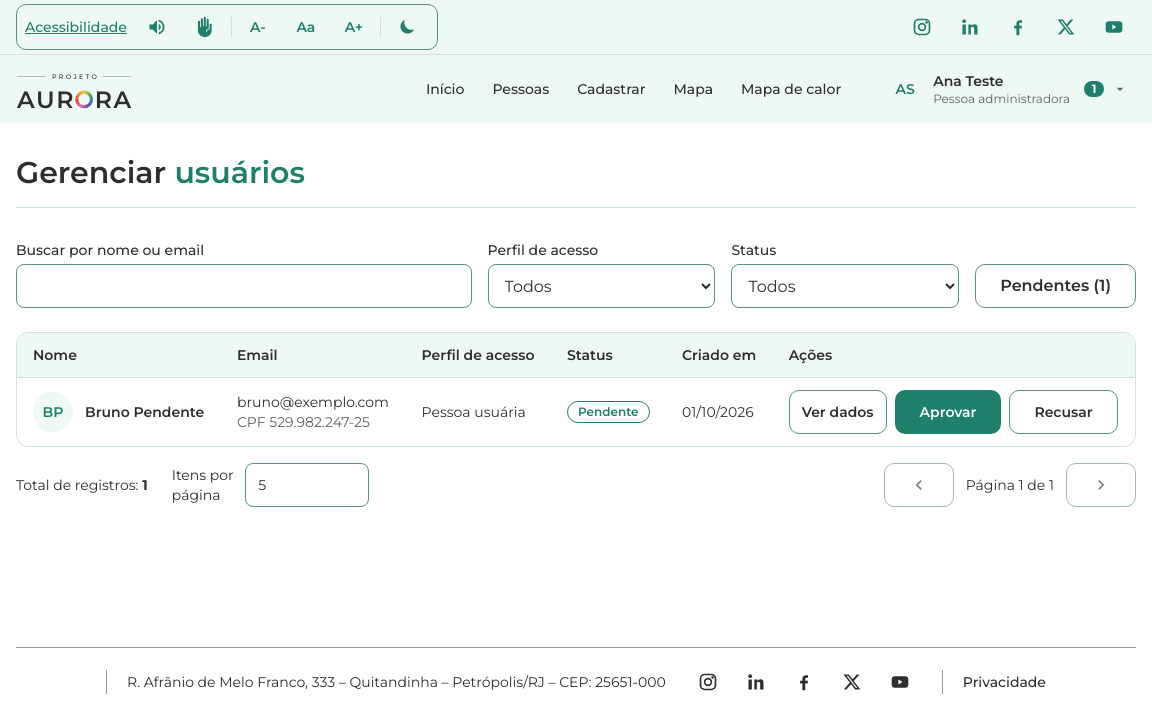
Test: Gerenciar usuários › aprova um cadastro escolhendo o perfil de acesso
Check: the text "01/10/2026" is shown, box [666,378,773,446]
Click the button with aria-label "Aprovar: Bruno Pendente": click(948, 412) [895,390,1001,434]
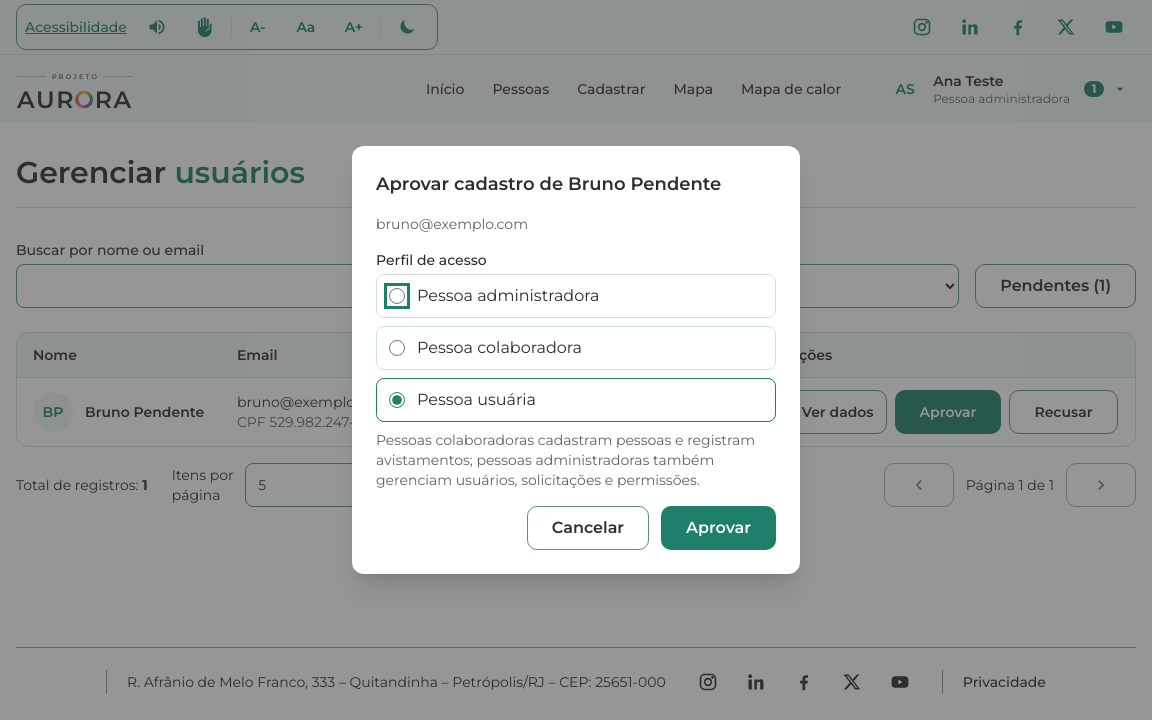
Click the radio button labelled "Pessoa colaboradora": click(397, 348) [389,340,405,356]
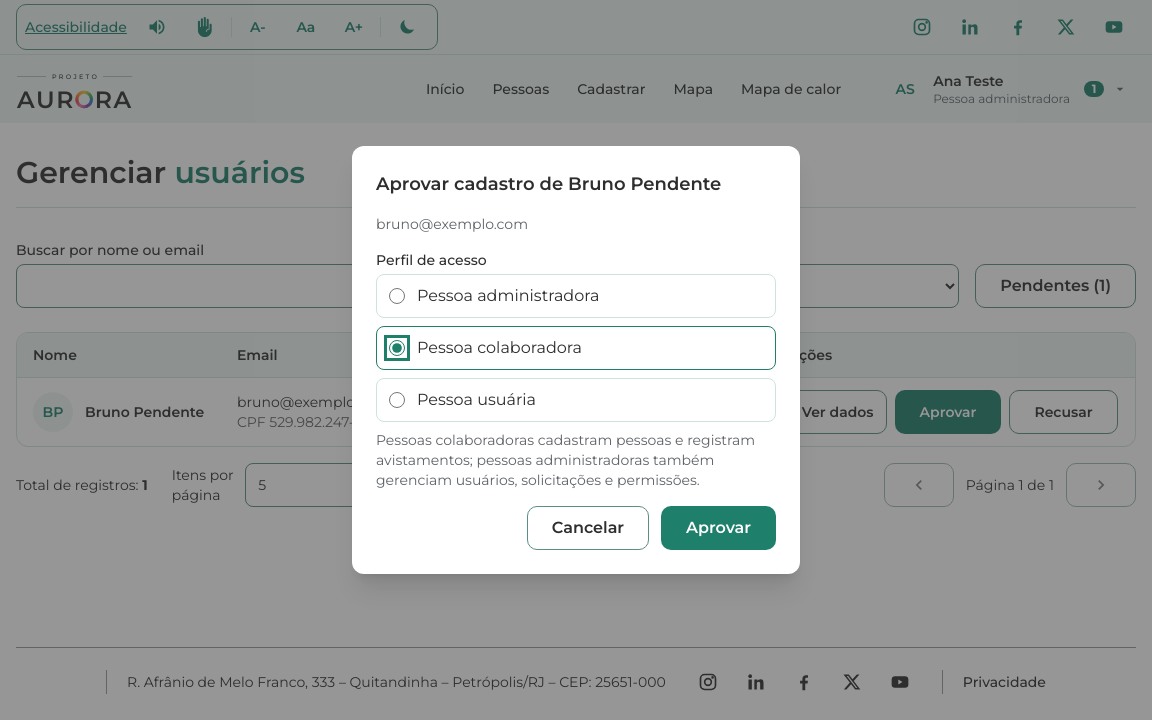
Click the button "Aprovar": click(719, 528) [661,506,776,550]
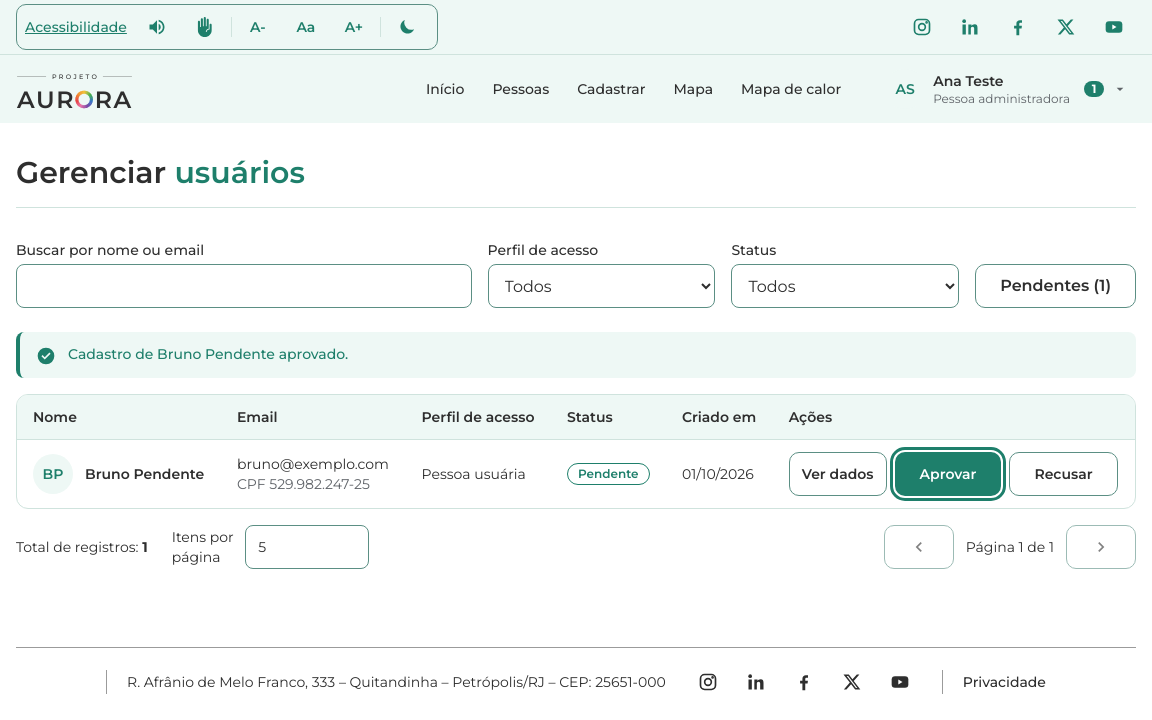
Check: the text "Cadastro de Bruno Pendente aprovado." is shown, box [68,344,348,364]
Check: the dialog is gone
